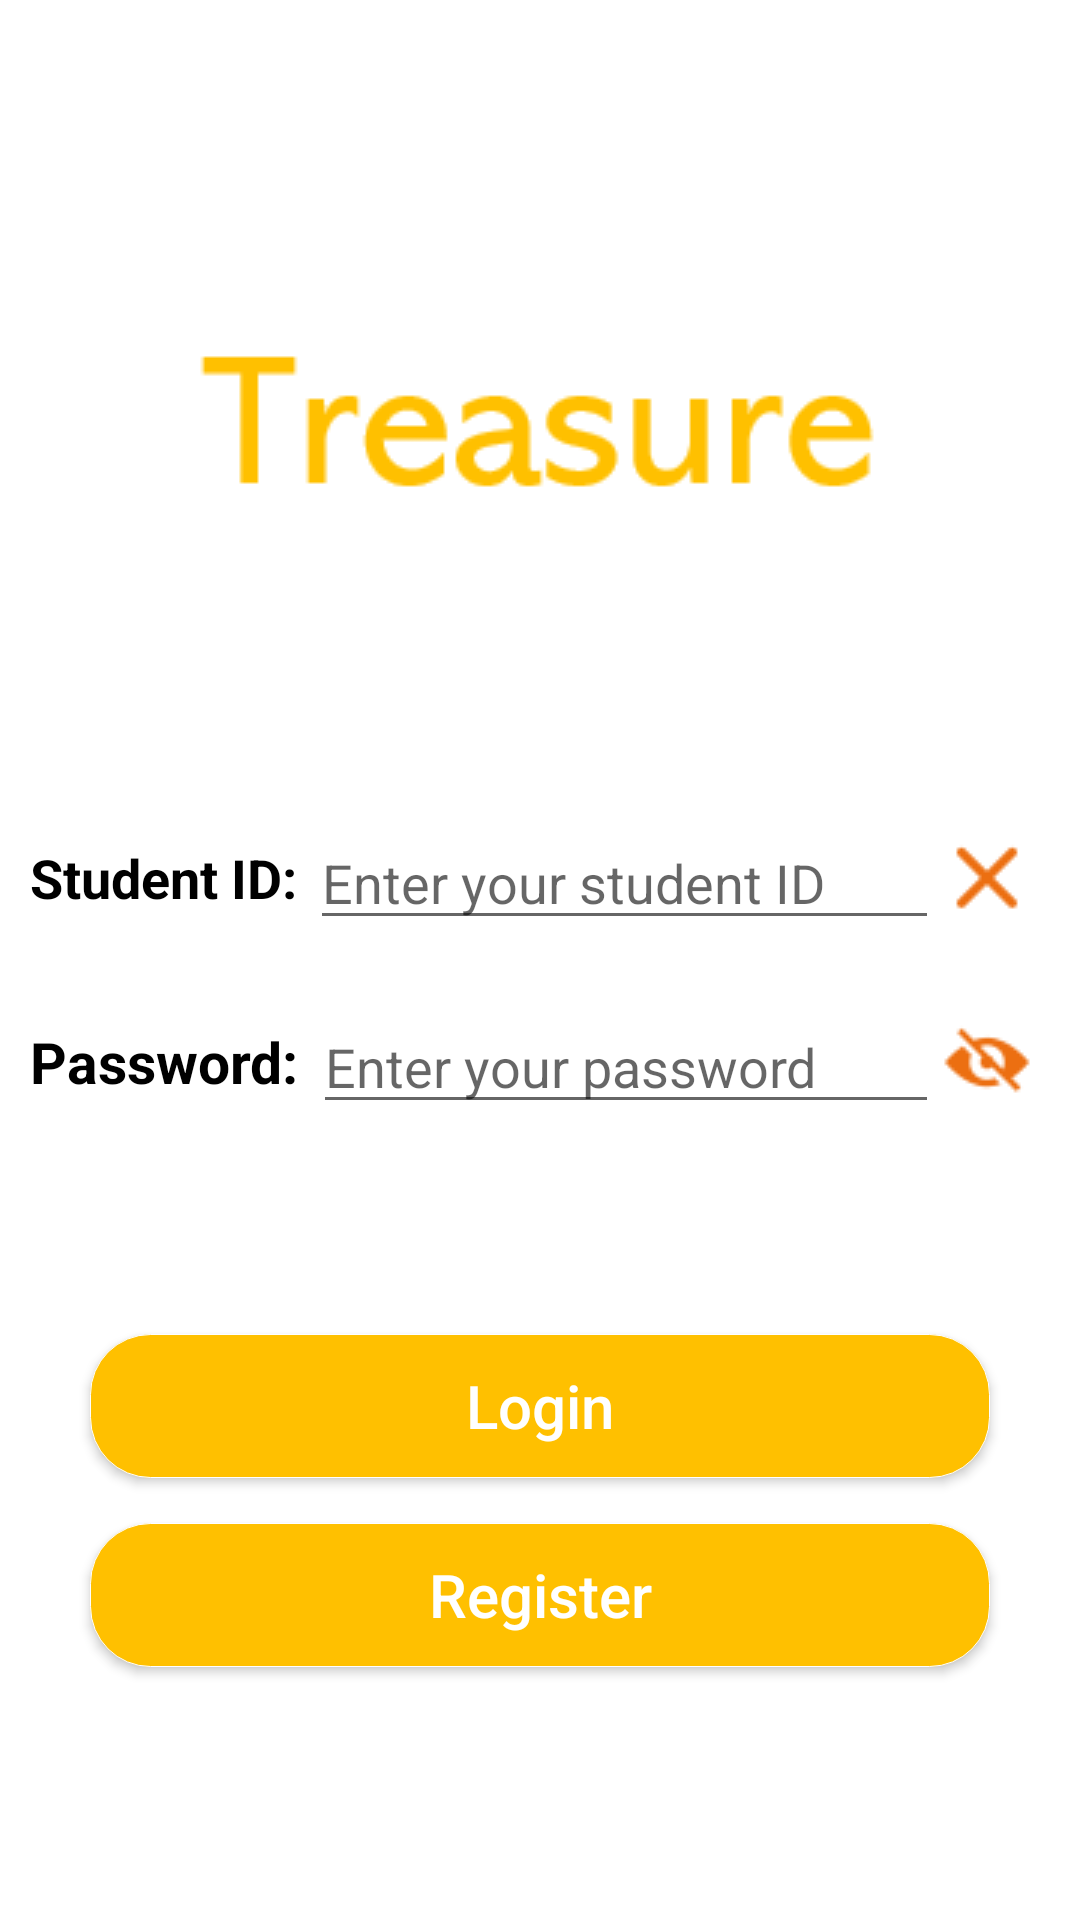

Where icons sit on this 1080px×1920px app screen, as (x1, y1, x2, y2):
delete: (956, 847, 1018, 909)
eyeclose: (944, 1028, 1030, 1093)
